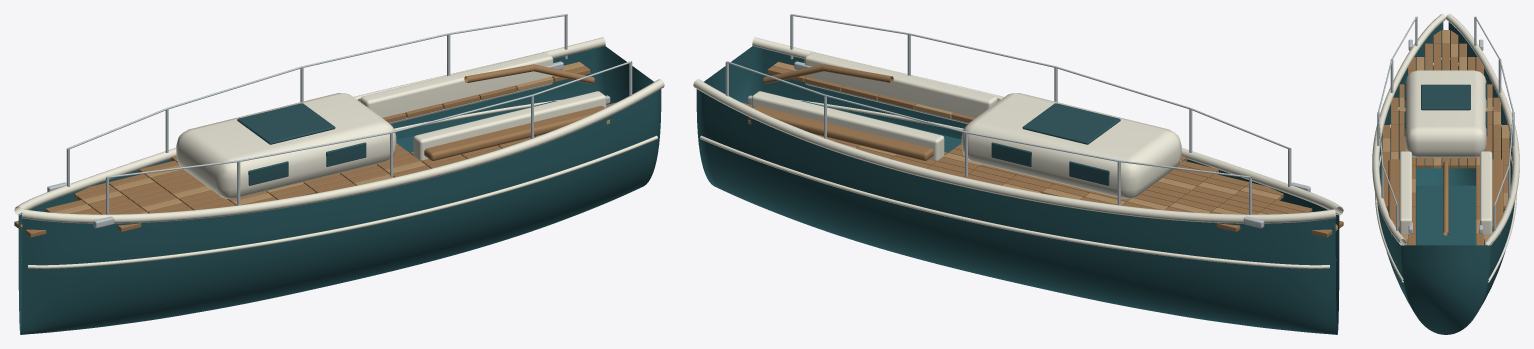
Rendered from boat-hull.glb.
3 views of the same model, side by side, from view 1: azimuth 30°, elevation 25°; view 2: azimuth 150°, elevation 25°; view 3: azimuth 270°, elevation 25° (orthographic). The views are drawn at different scales.
Parts seen in each view (by area): view 1: boat-hull; view 2: boat-hull; view 3: boat-hull.
Boxes of the visible parts, box(x1,y1,x2,y2) form: boat-hull: box(14, 14, 664, 334); boat-hull: box(693, 14, 1343, 334); boat-hull: box(1372, 14, 1519, 334).
Bounding box in the file's own units: 4.28 × 1.15 × 1.18.
